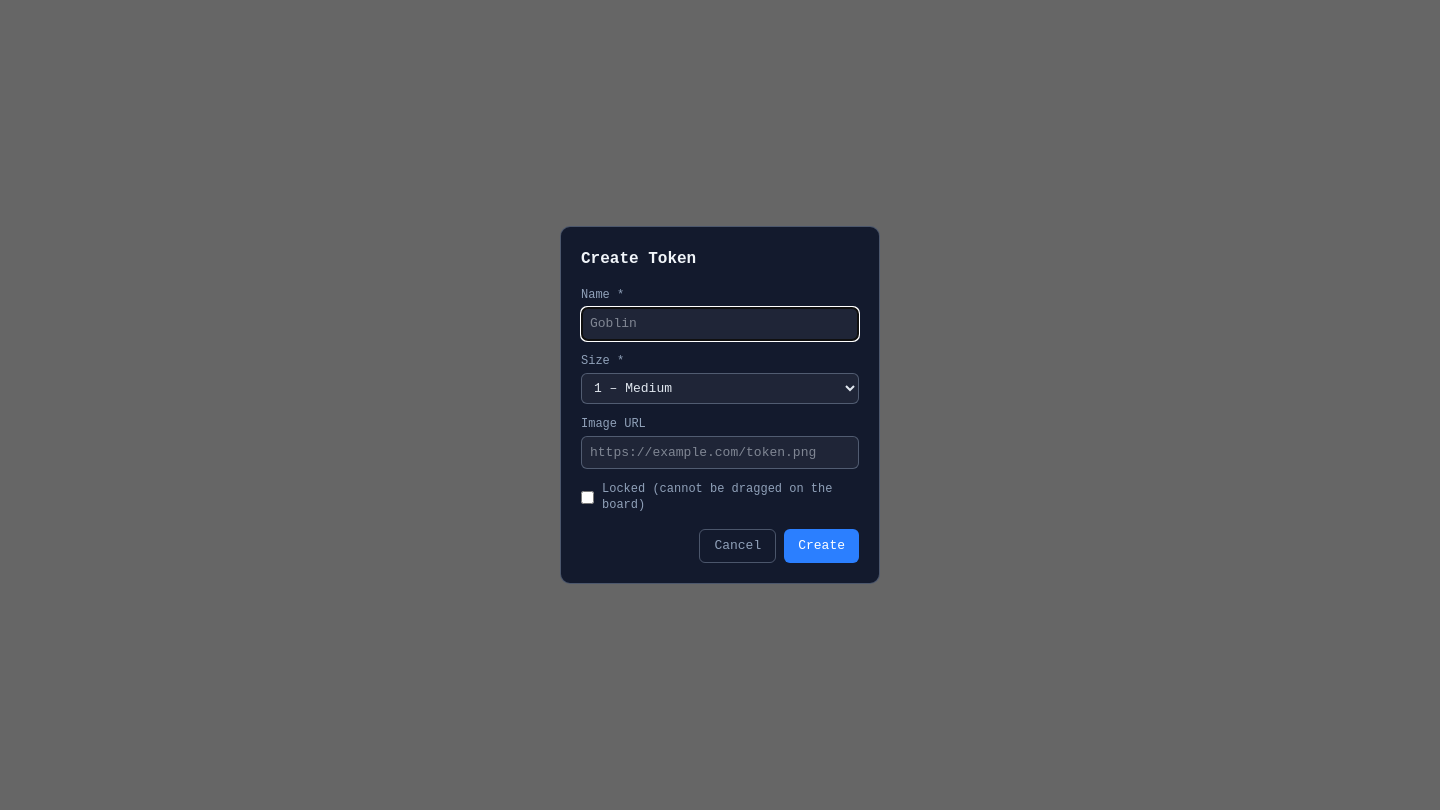
CreateTokenModal › form validation errors › shows an image URL validation error when an invalid URL is entered
The image size is (1440, 810).
Type "not-a-url" into the field labelled "Image URL".
click(720, 453); type("not-a-url")  # box [581,436,859,469]
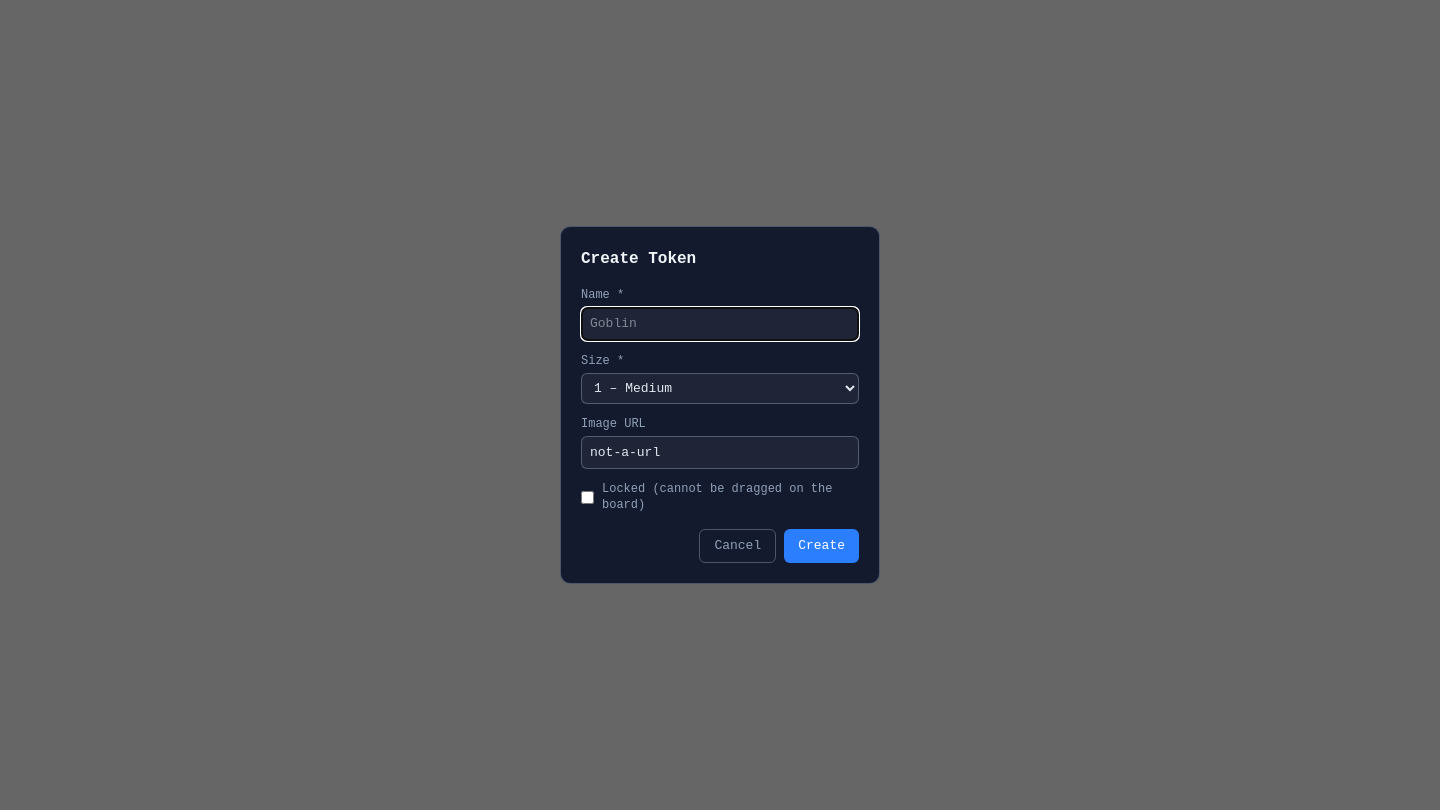
Submit the form labelled "Image URL", box [581,287,859,563]
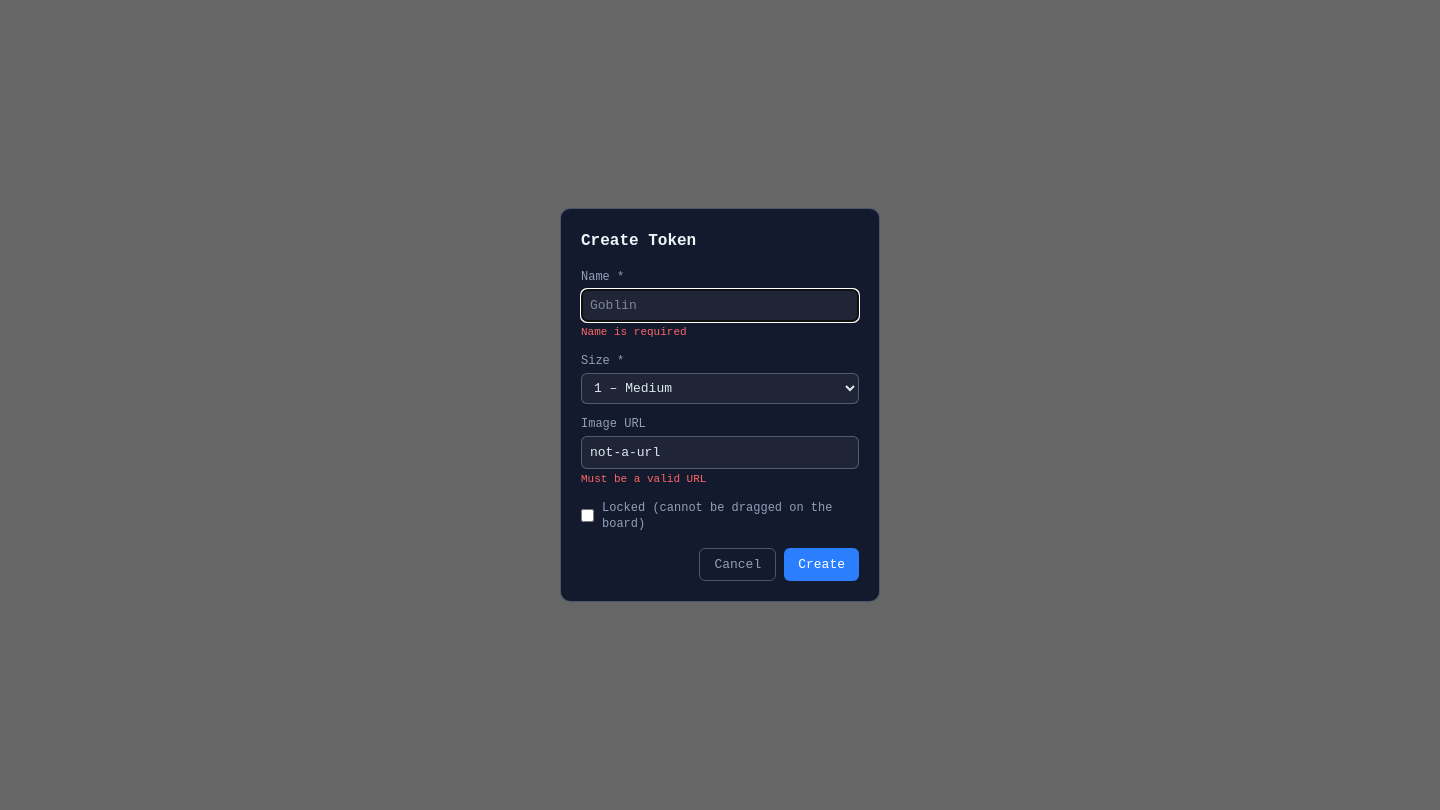
Expected: the text "Must be a valid URL" is shown, [581,473,706,485]
